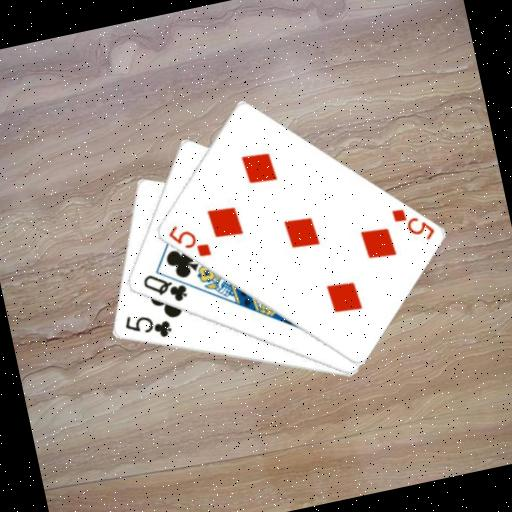5C: (119, 305, 174, 347)
5D: (163, 216, 214, 266), (386, 199, 437, 249)
QC: (137, 264, 190, 310)
